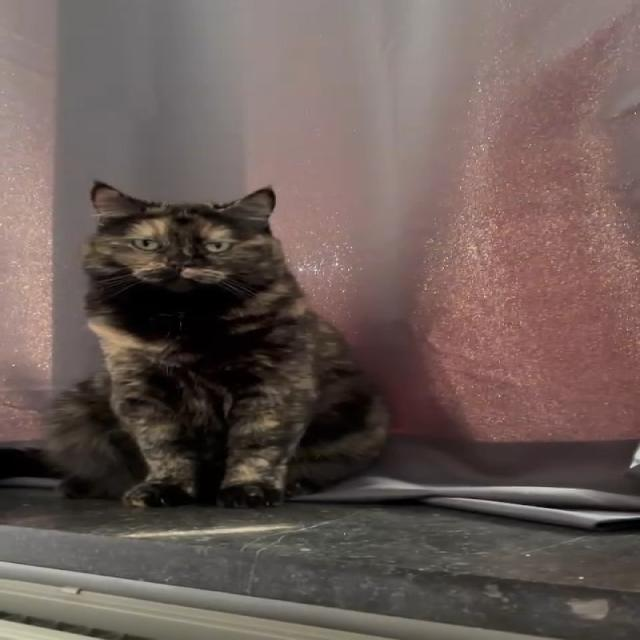authorized: (39, 179, 392, 509)
